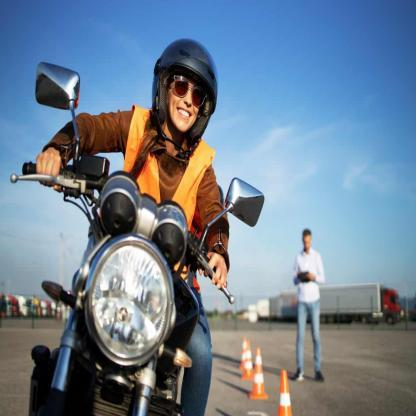helmet: (151, 38, 218, 141)
nohelmet: (301, 227, 313, 253)
